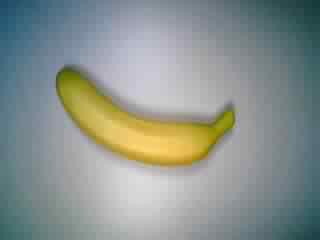banana: (54, 64, 235, 169)
